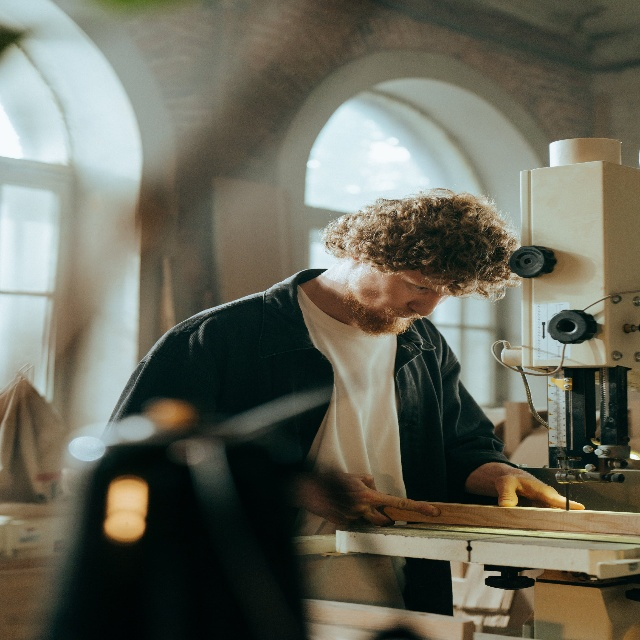Sin_guantes: (308, 466, 443, 529), (496, 466, 587, 521)
